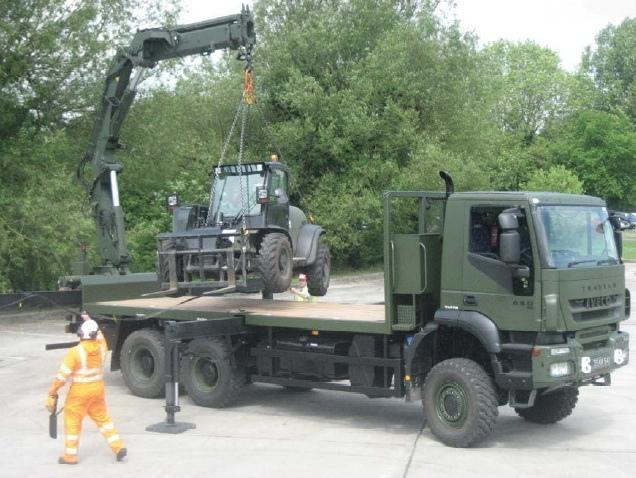car: (618, 213, 636, 228)
truck: (46, 13, 631, 447)
